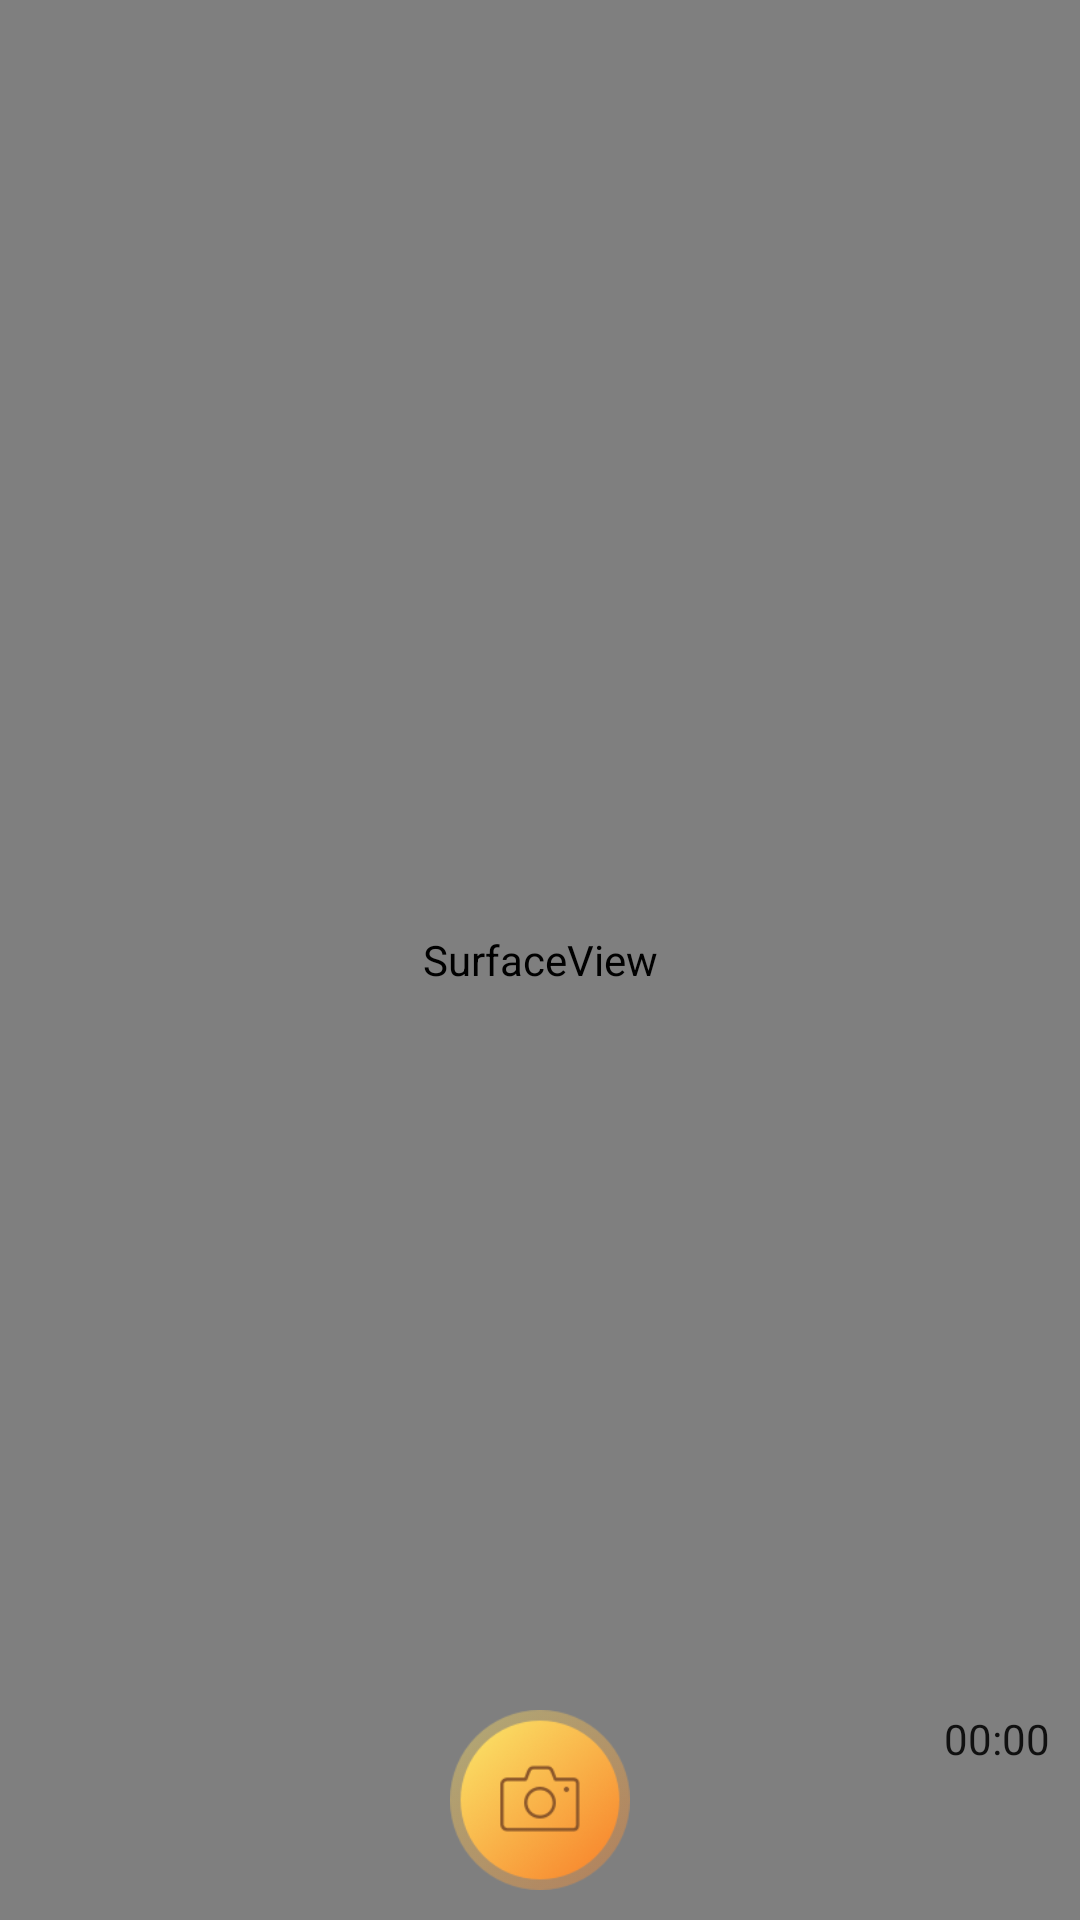

Screen size 1080 x 1920. Icon name, then its box in pixels as [x1,y1,x2,y2]:
paishe: [450,1710,630,1890]
